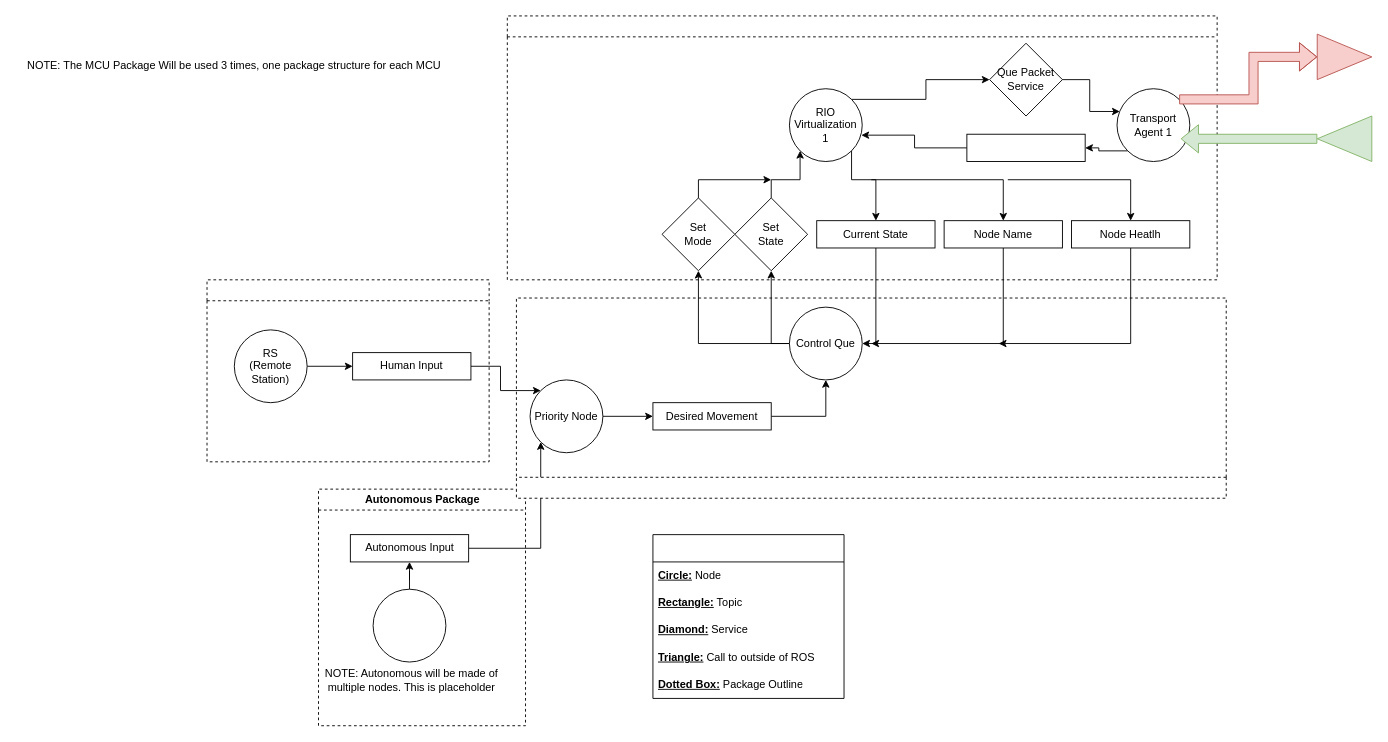
This 1388x742 diagram has some shape labels left out. The shapes that lost their labels are listed below. From the top down, each one's box as (x1, y1, x2, y2) in pixels, then its label:
(1316, 33, 1372, 80): ROI Out
(506, 15, 1217, 280): MCU Package
(966, 133, 1085, 162): Response
(1316, 115, 1372, 162): ROI In
(206, 279, 489, 462): RS Package
(516, 297, 1226, 498): Que Package
(372, 588, 446, 662): Autonomous
(652, 534, 844, 698): Diagram Key
